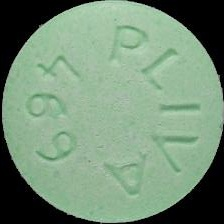63187-407: (0, 0, 224, 224)
